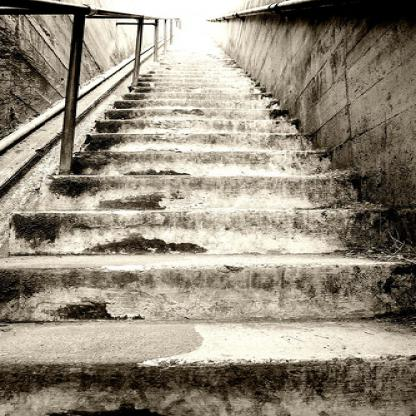stairs: (55, 178, 337, 416)
